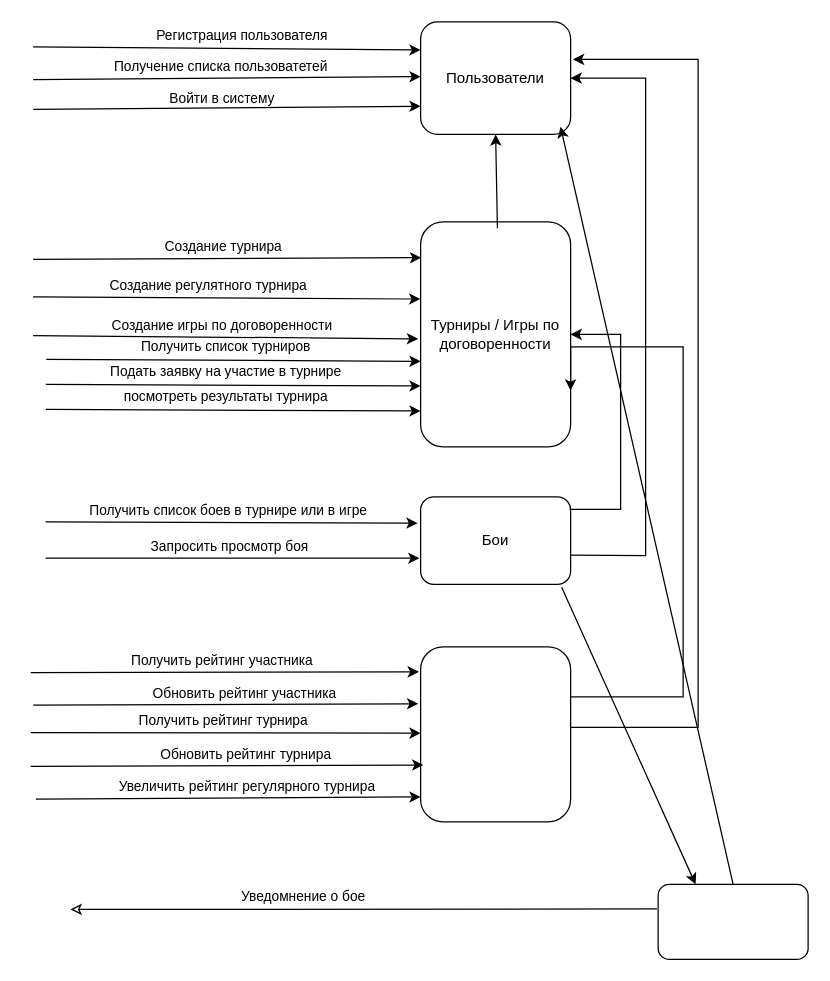
Some shapes in this 830 by 981 pixel diagram are drawn without their labels. Each missing label, with the box of its shape:
Рассылка уведомлений: (657, 883, 808, 959)
Рейтинги участников Рейтинги турниров: (419, 646, 571, 822)
